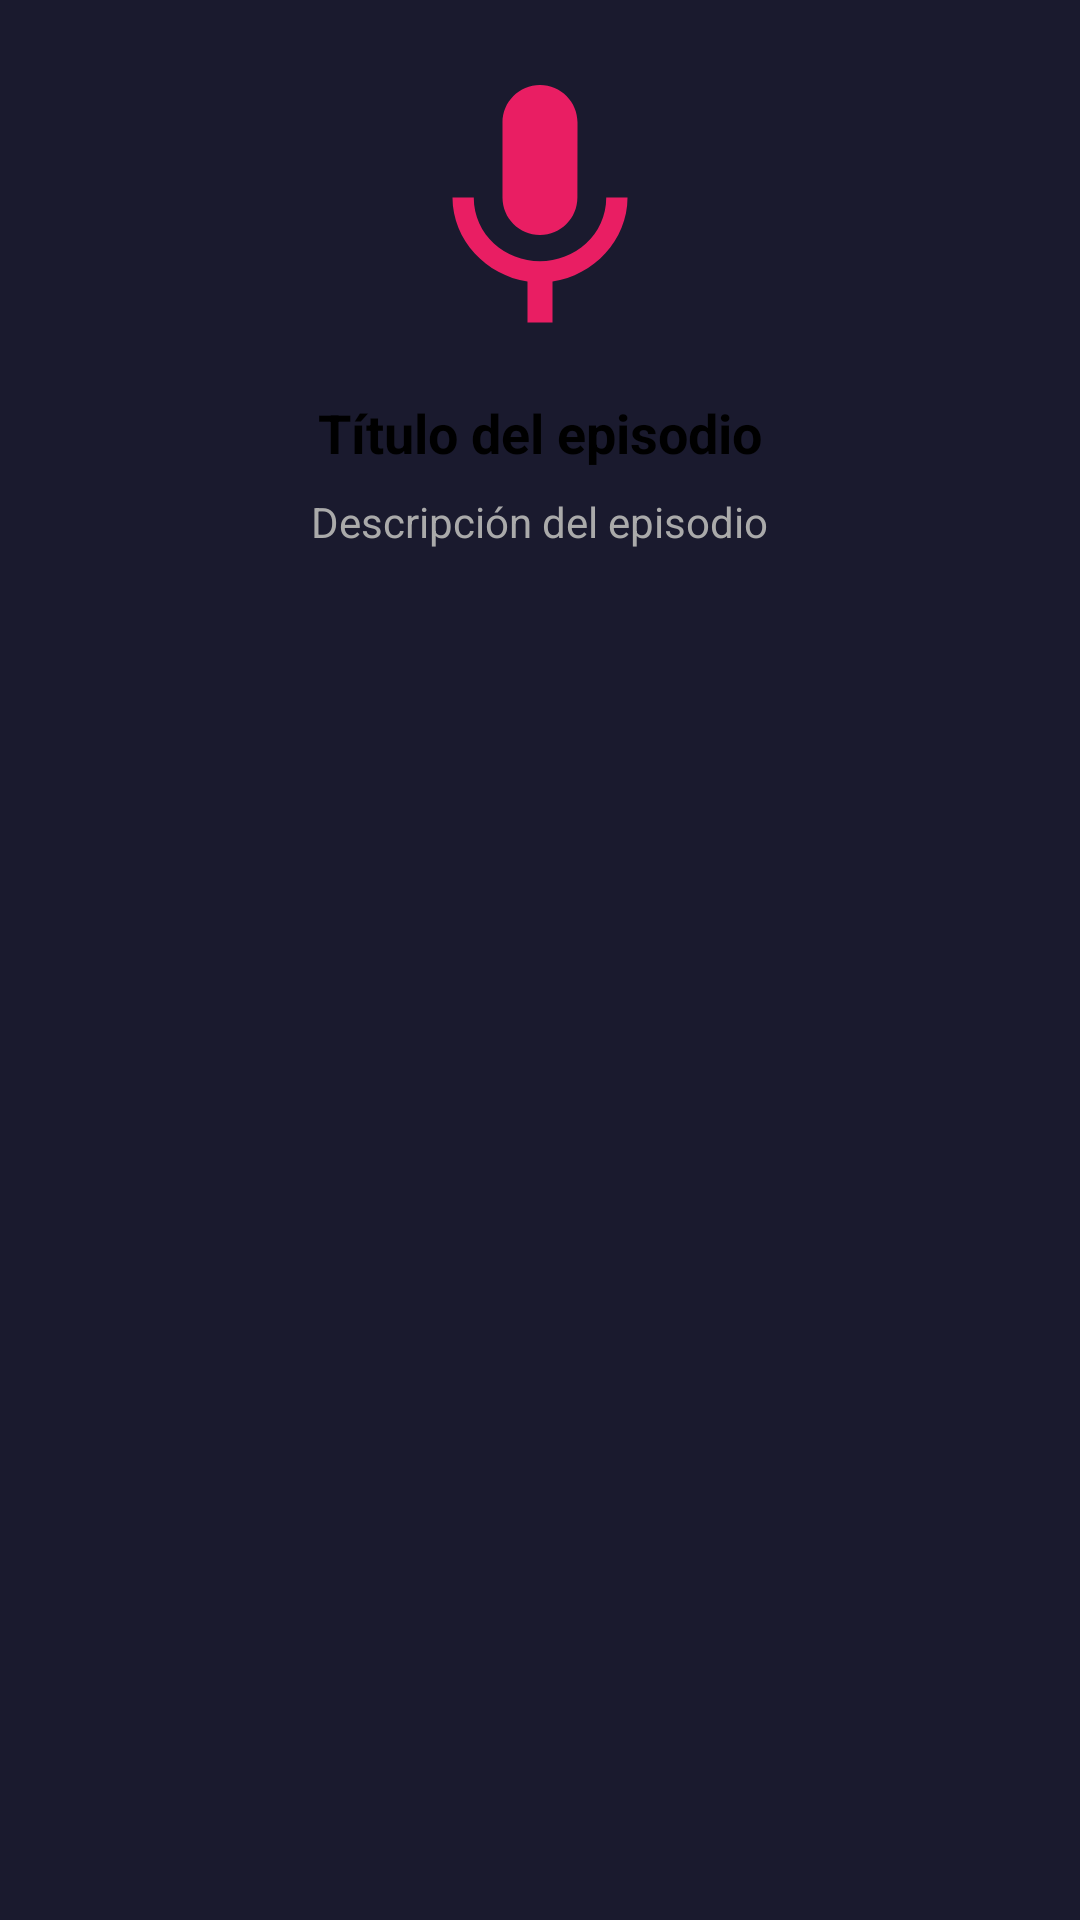

Icon click points for this 1080 × 1920 phone screenshot, format [x,y]:
Image de episodio: [540,204]
